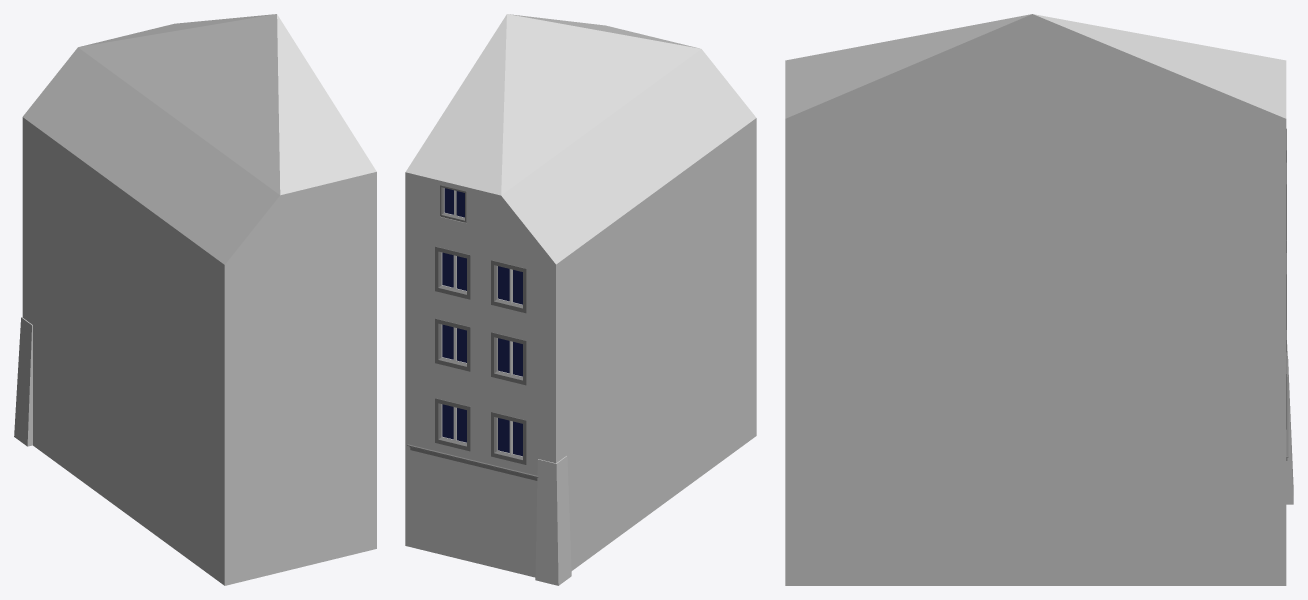
Rendered from Barock_CafeBar2.fbx.
The picture shows the model from 3 angles, left to right: view 1: azimuth 30°, elevation 25°; view 2: azimuth 150°, elevation 25°; view 3: azimuth 270°, elevation 25°; orthographic projection. The views are drawn at different scales.
Parts seen in each view (by area): view 1: Cube.8847, Cube.8845; view 2: Cube.8847, Cube.8845, Cube.8835, Cube.8839, Cube.8831, Cube.8837, Cube.8841, Cube.8833, Cube.8846, Cube.8828, Cube.143, Cube.8826 (+4 smaller); view 3: Cube.8847, Cube.8845.
Part boxes in pixels (bbox=[...]): Cube.8847: bbox=[22, 14, 376, 585]; Cube.8845: bbox=[14, 317, 32, 446]; Cube.8847: bbox=[405, 14, 756, 577]; Cube.8845: bbox=[535, 456, 571, 585]; Cube.8835: bbox=[435, 318, 470, 371]; Cube.8839: bbox=[435, 246, 470, 299]; Cube.8831: bbox=[435, 398, 470, 451]; Cube.8837: bbox=[491, 332, 526, 385]; Cube.8841: bbox=[491, 260, 526, 313]; Cube.8833: bbox=[491, 412, 526, 464]; Cube.8846: bbox=[407, 444, 538, 480]; Cube.8828: bbox=[442, 252, 466, 290]; Cube.143: bbox=[442, 404, 466, 442]; Cube.8826: bbox=[442, 324, 466, 362]; Cube.8847: bbox=[785, 14, 1286, 585]; Cube.8845: bbox=[1286, 344, 1293, 504].
Size of the model in its own units: 696 by 1951 by 1572.
